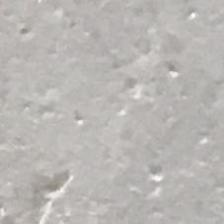Non_Crack: (11, 10, 206, 191)
